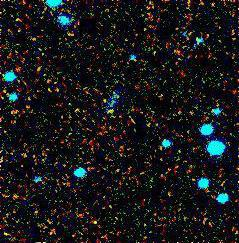star: (95, 96, 125, 126)
